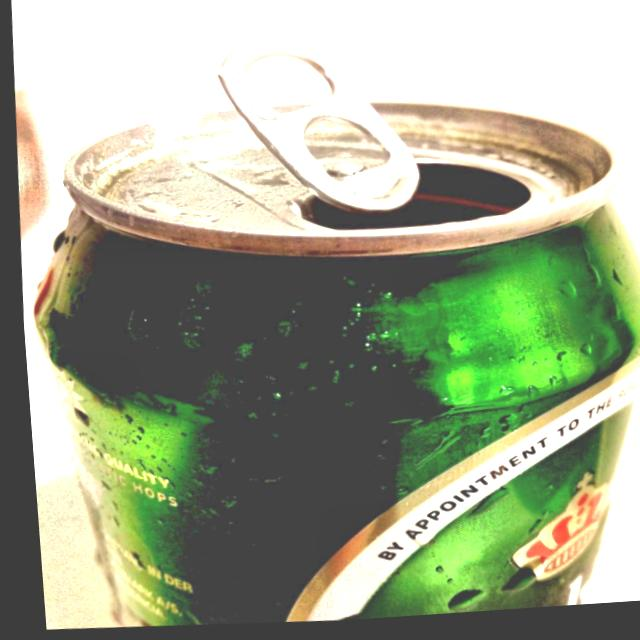Cans: (2, 0, 640, 640)
